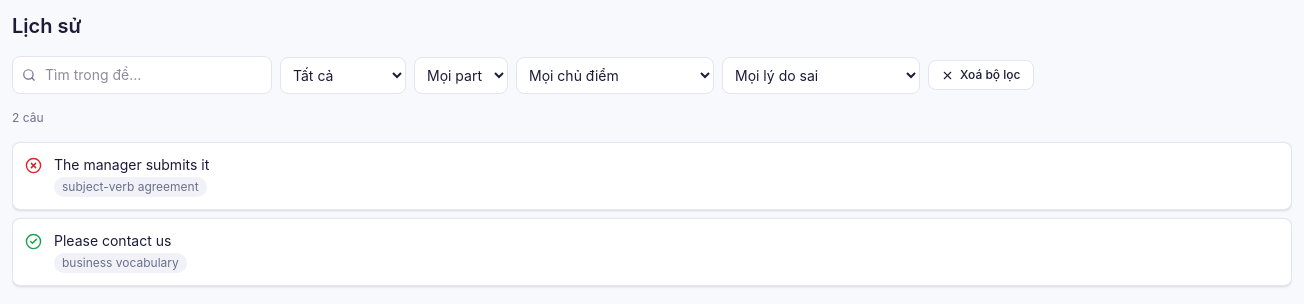
History view › filters to wrong answers only
This screenshot has width=1304, height=304.
Expected: the text "The manager submits it" is shown, left=54, top=156, right=209, bottom=173
Select "Chỉ câu sai" in the dropdown named "Kết quả" at (343, 75), box left=280, top=56, right=406, bottom=94
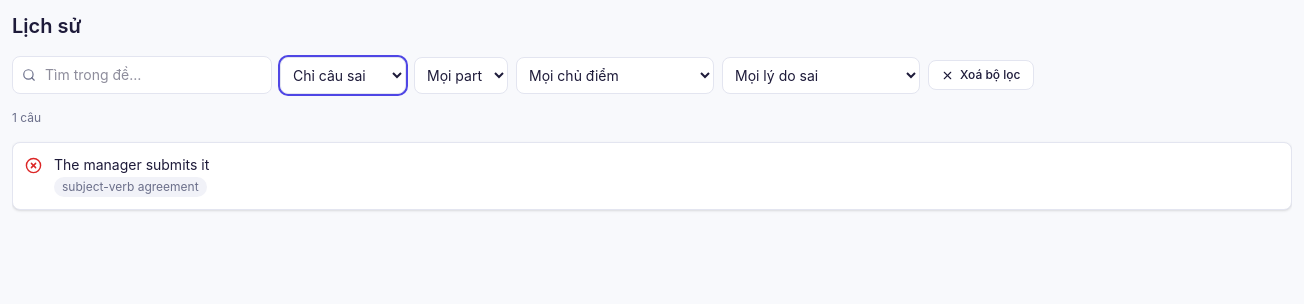
Result: the button "Please contact us" is gone
